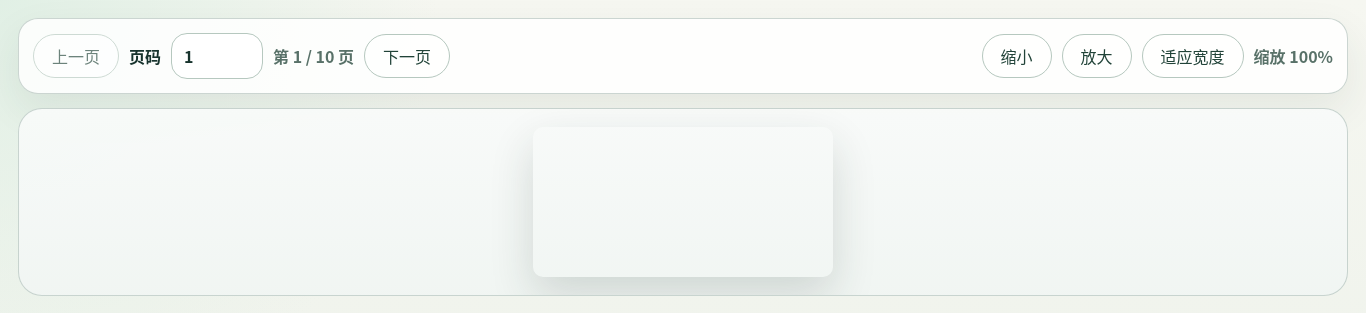
PdfPanel › accepts direct pages and ignores or clamps illegal direct input
Replace the text in the number field labelled "页码" with "4" at (217, 56), box [171,33,263,79]
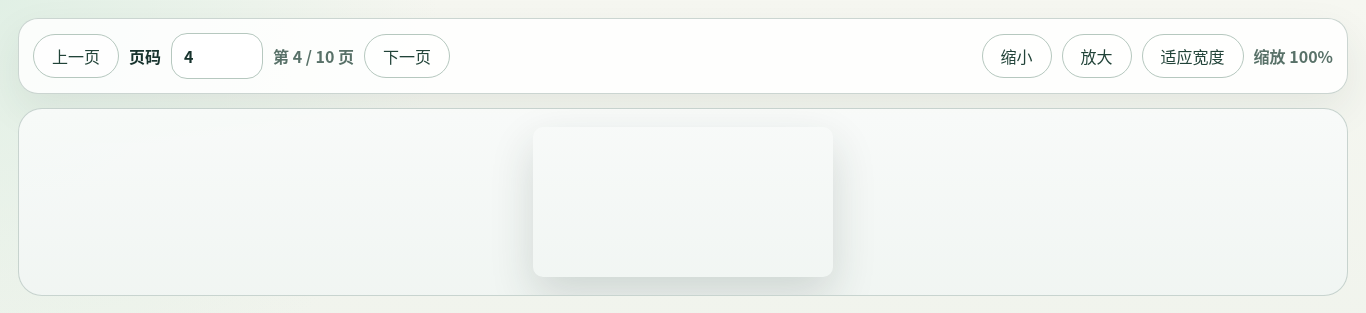
Expected: the message named "页码状态" reads "第 4 / 10 页", [273,44,354,68]
Clear the number field labelled "页码" at (217, 56), box [171,33,263,79]
Expected: the message named "页码状态" reads "第 4 / 10 页", [273,44,354,68]
Replace the text in the number field labelled "页码" with "99" at (217, 56), box [171,33,263,79]
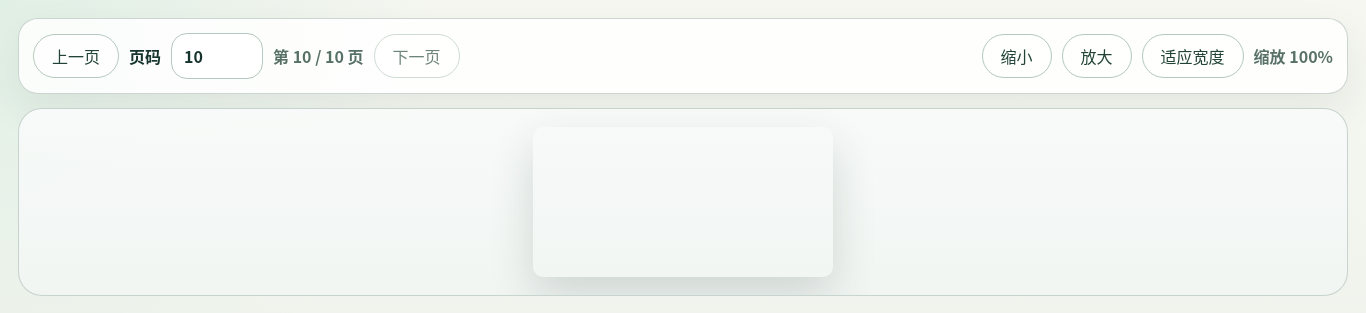
Expected: the message named "页码状态" reads "第 10 / 10 页", [273,44,364,68]
Replace the text in the number field labelled "页码" with "-3" at (217, 56), box [171,33,263,79]
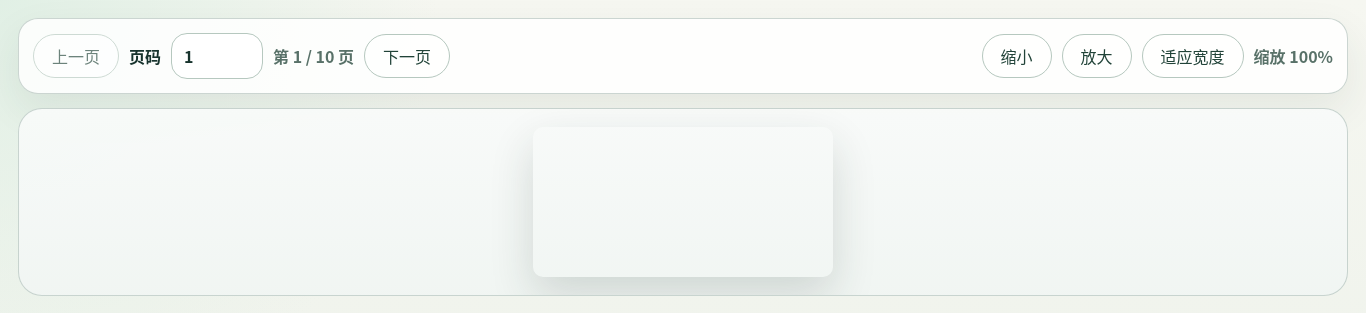
Expected: the message named "页码状态" reads "第 1 / 10 页", [273,44,354,68]
